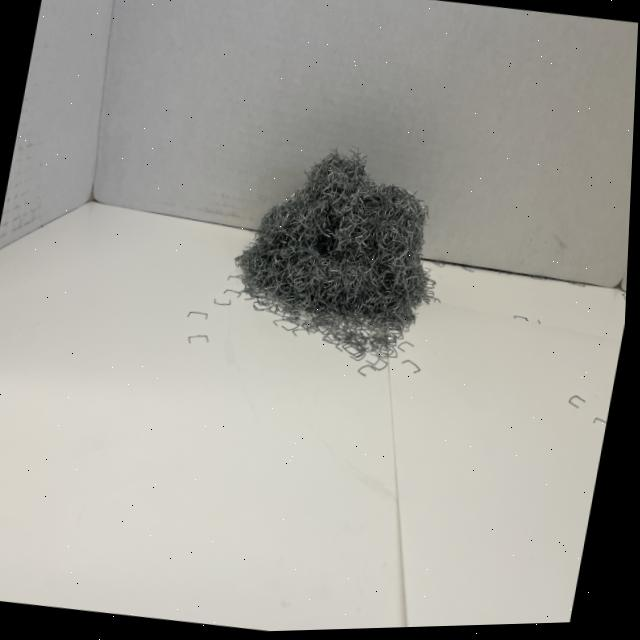staples: (222, 129, 462, 344)
